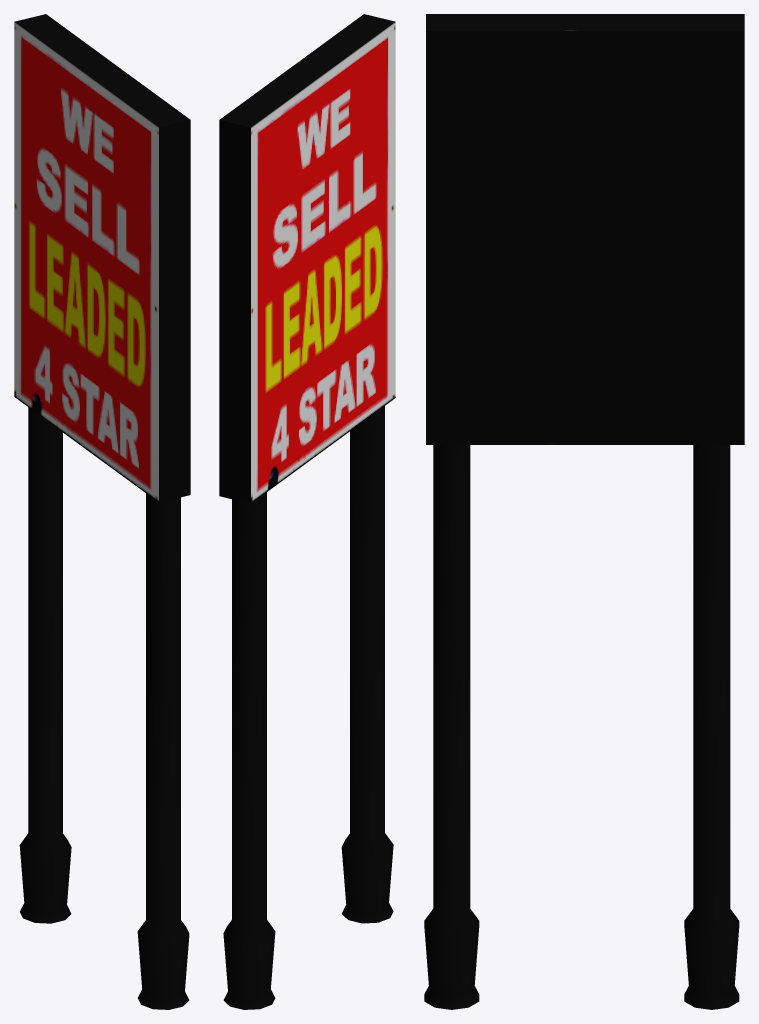
The picture shows the model from 3 angles, left to right: view 1: azimuth 30°, elevation 25°; view 2: azimuth 150°, elevation 25°; view 3: azimuth 270°, elevation 25°; orthographic projection. The views are drawn at different scales.
Visible parts, largest first — view 1: Cylinder002; view 2: Cylinder002; view 3: Cylinder002.
Part boxes in pixels (x1=…): Cylinder002: x1=14, y1=14, x2=190, y2=1009; Cylinder002: x1=219, y1=14, x2=395, y2=1009; Cylinder002: x1=424, y1=14, x2=744, y2=1009.
Size of the model in its own units: 1.42 by 26.53 by 7.89.
